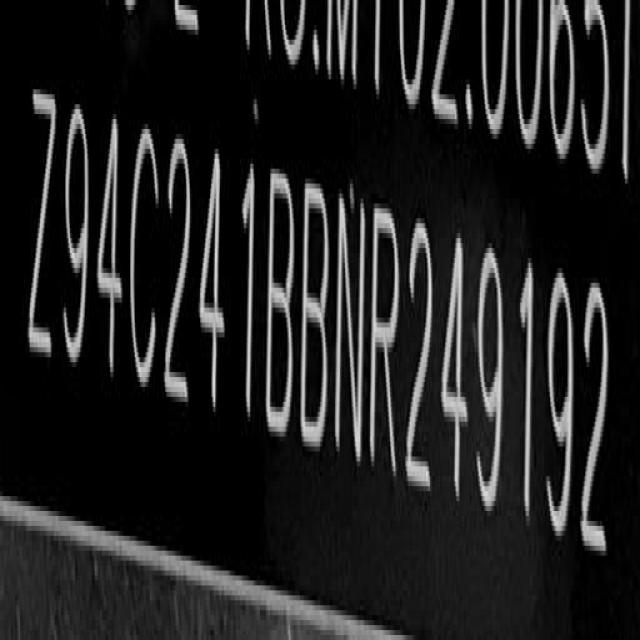1: (236, 161, 257, 433), (516, 258, 536, 536)
2: (583, 282, 613, 563), (165, 133, 194, 407), (408, 222, 436, 497)
4: (443, 240, 473, 511), (98, 112, 126, 384), (201, 150, 228, 422)
9: (547, 276, 576, 546), (62, 97, 89, 376), (477, 246, 503, 516)
B: (302, 176, 332, 452), (266, 166, 296, 442)
C: (132, 128, 163, 398)
N: (336, 187, 366, 470)
R: (370, 204, 402, 478)
Z: (25, 85, 58, 371)
